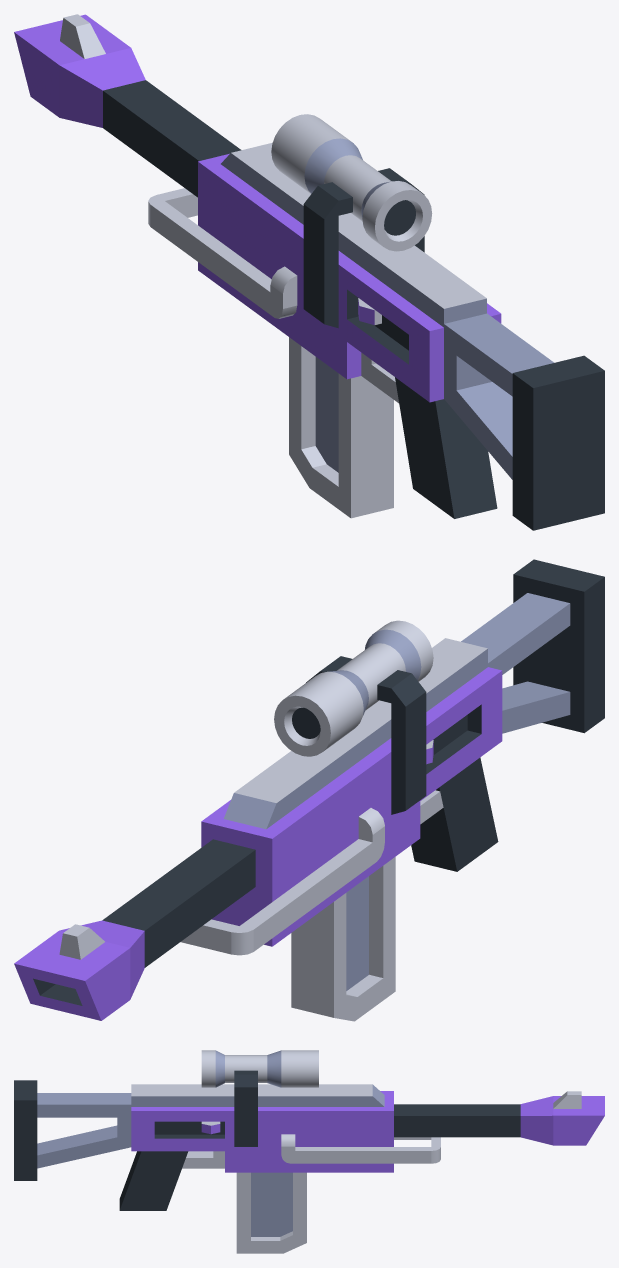
Rendered from blasterF.obj.
The picture shows the model from 3 angles, top to bottom: view 1: azimuth 30°, elevation 25°; view 2: azimuth 150°, elevation 25°; view 3: azimuth 270°, elevation 25°; orthographic projection. The views are drawn at different scales.
Parts seen in each view (by area): view 1: blasterF; view 2: blasterF; view 3: blasterF.
Part boxes in pixels (x1,y1,x2,y2): blasterF: (14,14,604,530); blasterF: (14,559,604,1021); blasterF: (14,1050,604,1253).
Size of the model in its own units: 0.14 by 0.46 by 1.26.
